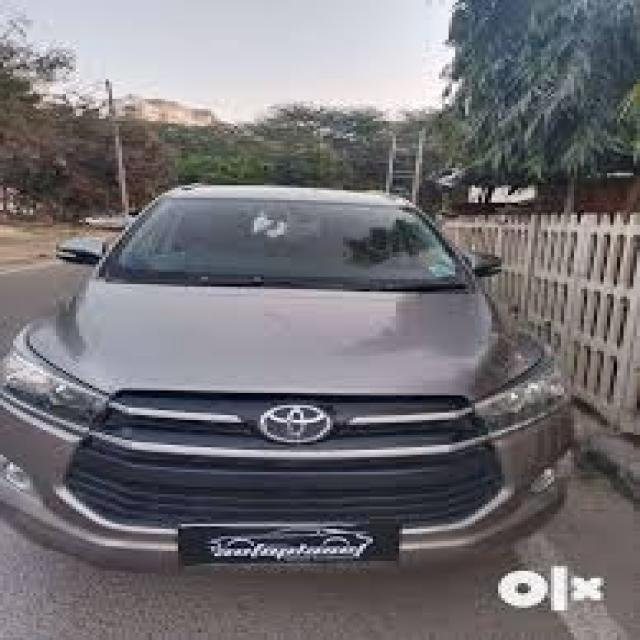light_vehicle: (0, 183, 577, 574)
